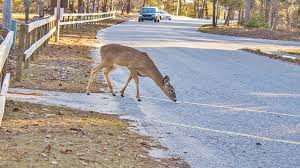deer: (85, 42, 179, 103)
